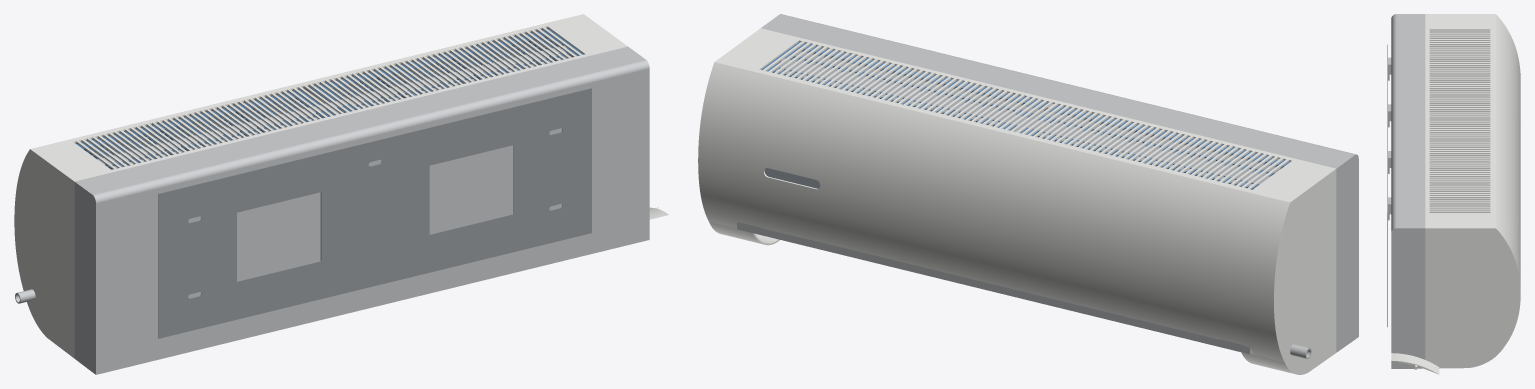
File: AERO-1_assembly.glb
The picture shows the model from 3 angles, left to right: view 1: azimuth 30°, elevation 25°; view 2: azimuth 150°, elevation 25°; view 3: azimuth 270°, elevation 25°; orthographic projection. The views are drawn at different scales.
Parts seen in each view (by area): view 1: rear_chassis, mounting_plate, front_cover, filters, evap_fins; view 2: front_cover, rear_chassis, evap_fins, filters; view 3: front_cover, rear_chassis, louver, mounting_plate.
Part boxes in pixels (left/top/right/bottom): rear_chassis: left=15, top=46, right=649, bottom=374; mounting_plate: left=158, top=88, right=591, bottom=338; front_cover: left=14, top=14, right=627, bottom=358; filters: left=76, top=29, right=583, bottom=169; evap_fins: left=97, top=45, right=566, bottom=168; front_cover: left=698, top=28, right=1336, bottom=374; rear_chassis: left=737, top=14, right=1358, bottom=359; evap_fins: left=764, top=50, right=1280, bottom=188; filters: left=761, top=42, right=1289, bottom=189; front_cover: left=1425, top=14, right=1520, bottom=368; rear_chassis: left=1388, top=14, right=1425, bottom=368; louver: left=1391, top=353, right=1439, bottom=374; mounting_plate: left=1387, top=44, right=1387, bottom=327.
Size of the model in its own units: 986 by 282 by 242.
